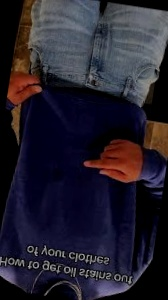oil: (99, 125, 124, 144), (89, 138, 103, 154), (48, 171, 63, 185)
